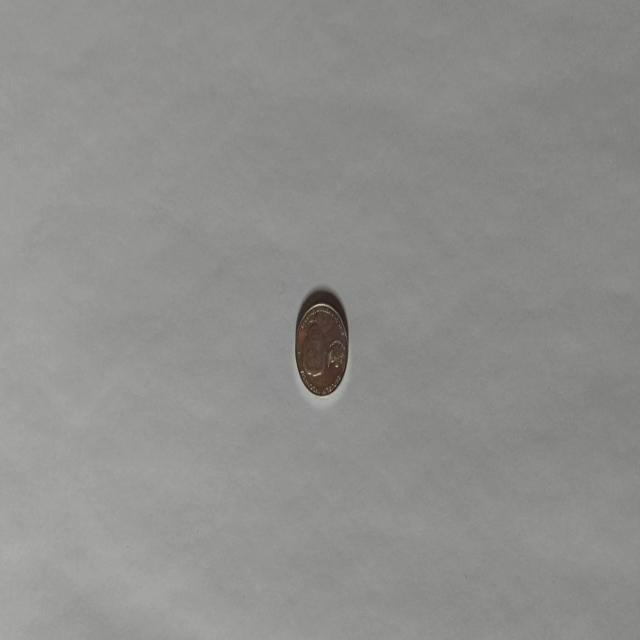seratus rupiah: (294, 300, 348, 398)
